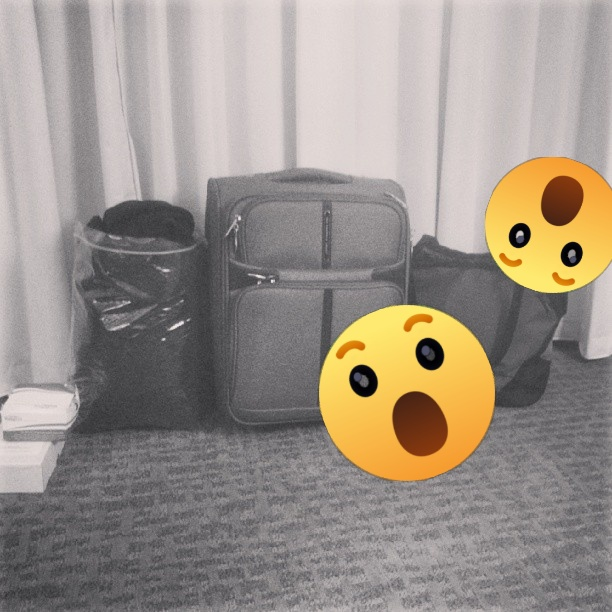wow: (319, 305, 495, 481), (485, 157, 612, 293)
